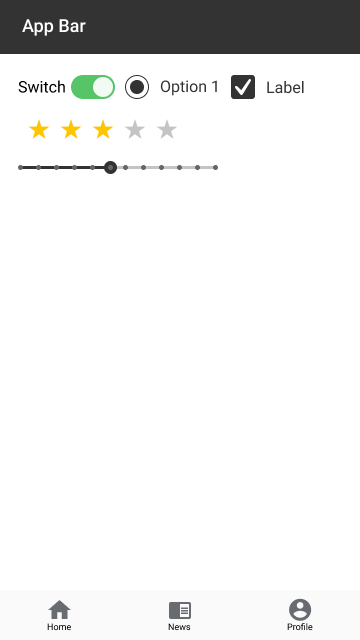checkBox: (227, 72, 308, 102)
navigationButton: (1, 589, 360, 639)
radioButton: (124, 73, 223, 102)
ratingBar: (25, 117, 182, 144)
slider: (14, 158, 224, 177)
switch: (15, 71, 119, 103)
toolbar: (1, 1, 360, 55)
